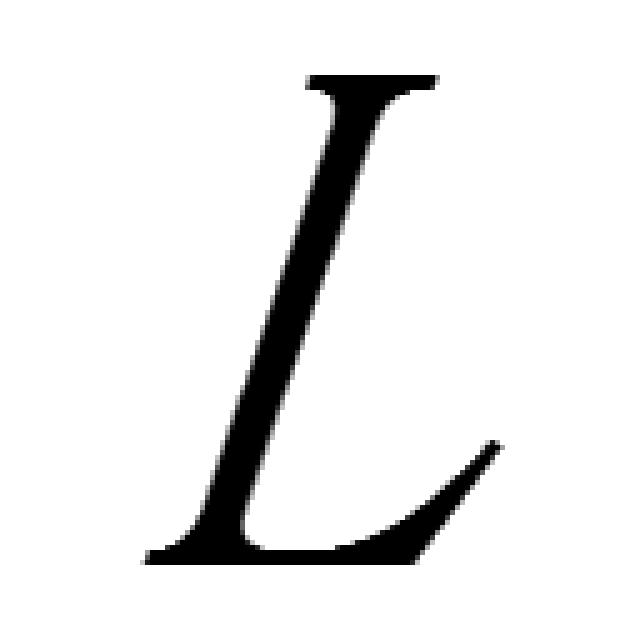L: (151, 70, 503, 566)
